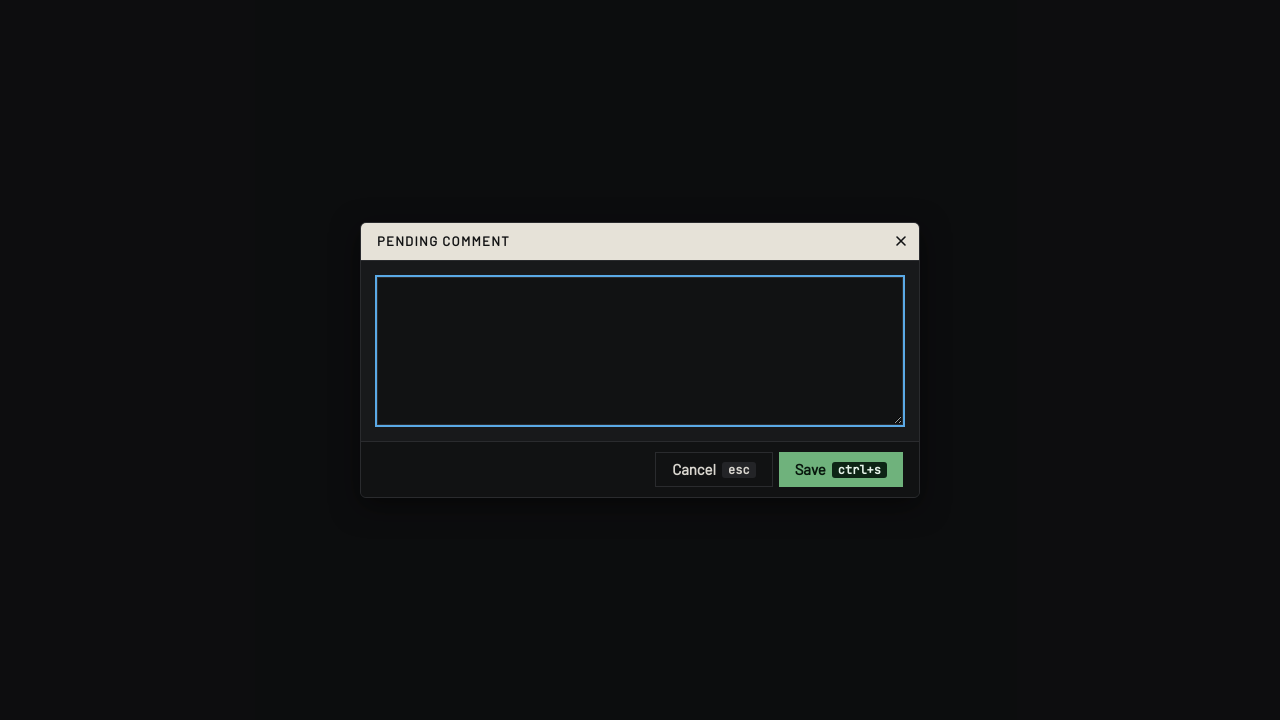
Scenario: the comment box of a review › says why a comment was not saved, keeping the text to save again
Type "Rename this" into the text box named "Comment text" at (640, 351), box x1=377 y1=277 x2=903 y2=425
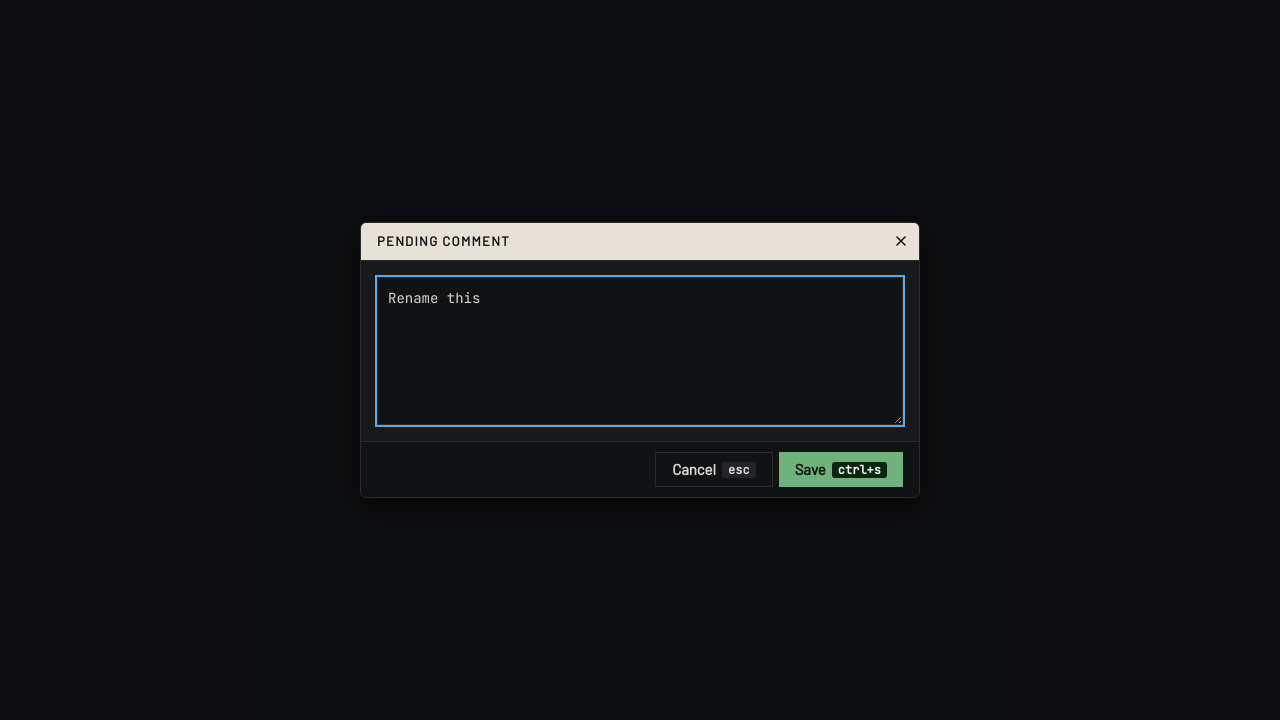
Type keys "{Control>}s{/Control}"
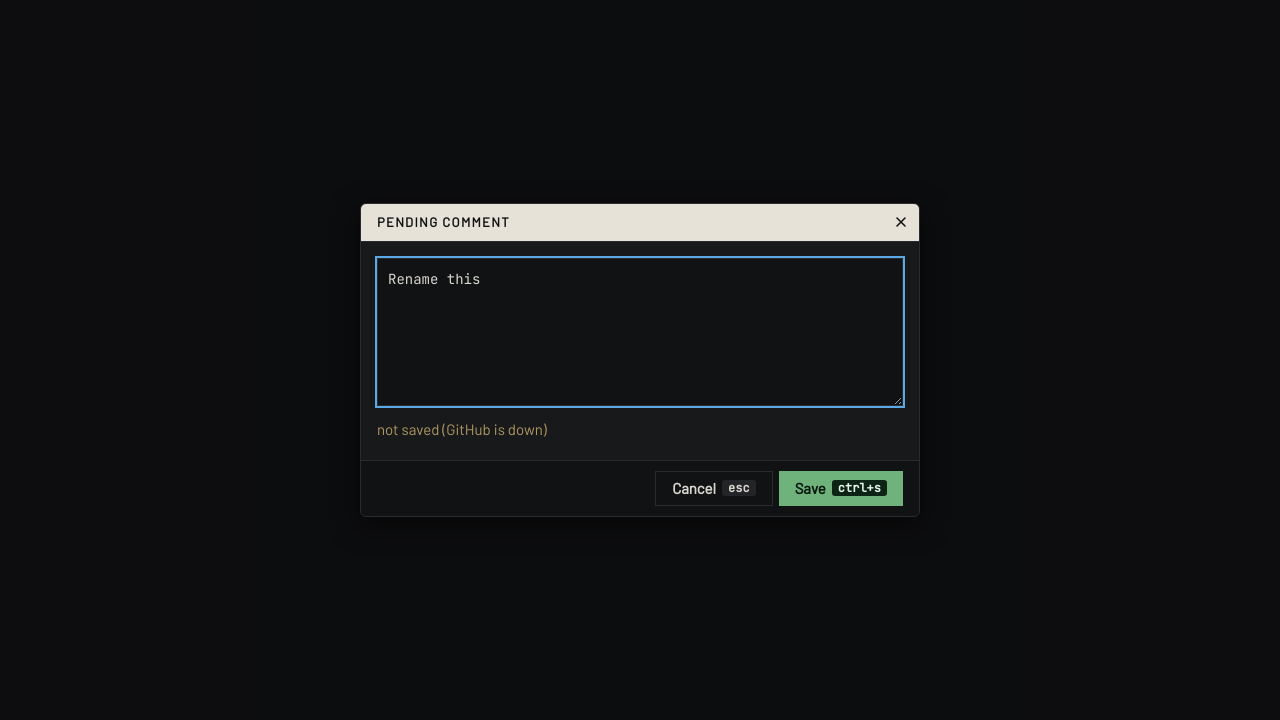
Expected: the text "not saved (GitHub is down)" is shown, x1=377 y1=420 x2=547 y2=438
